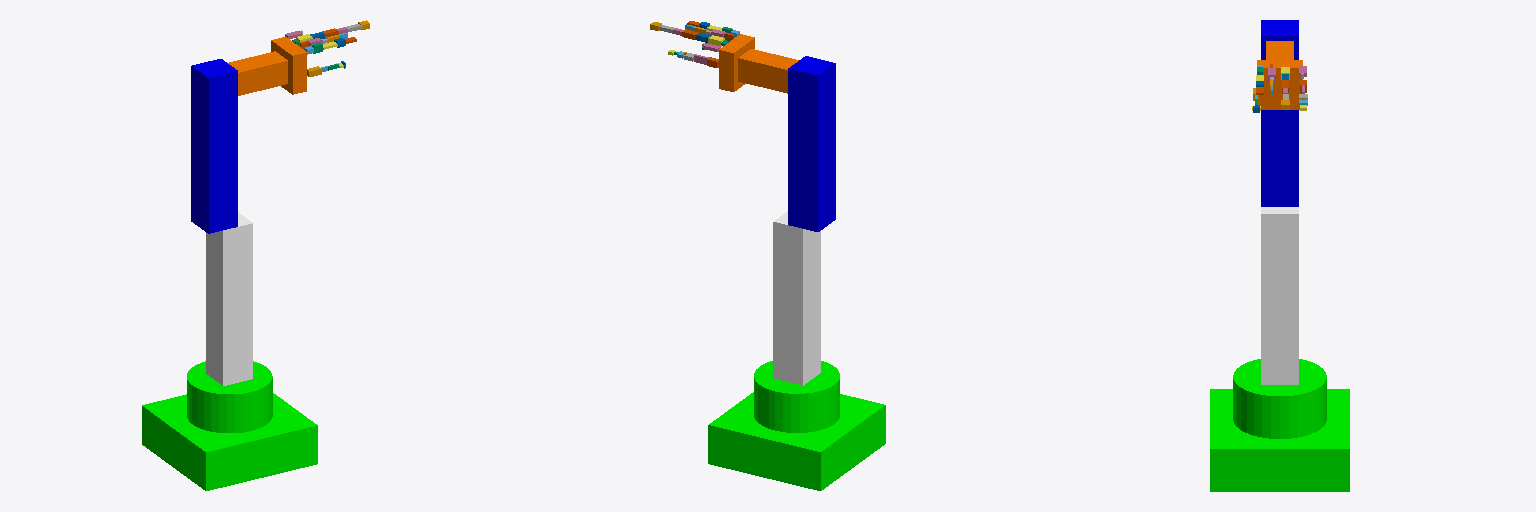
--- Render facts (derived) ---
The picture shows the robot from 3 angles, left to right: view 1: azimuth 30°, elevation 25°; view 2: azimuth 150°, elevation 25°; view 3: azimuth 270°, elevation 25°; orthographic projection.
Robot: robot — 36 links, 35 joints (32 revolute, 1 continuous, 2 fixed); root link base_link; default pose: every joint at zero.
Visible links, largest first — view 1: base_link, arm_link, support_link, wrist_link, palm_link; view 2: base_link, arm_link, support_link, wrist_link, palm_link; view 3: base_link, support_link, arm_link, palm_link, wrist_link.
Boxes of the visible links, left/top/right/bottom form: base_link: left=142, top=361, right=317, bottom=490; arm_link: left=191, top=59, right=237, bottom=233; support_link: left=206, top=212, right=252, bottom=385; wrist_link: left=228, top=51, right=287, bottom=95; palm_link: left=271, top=37, right=306, bottom=94; base_link: left=708, top=361, right=885, bottom=490; arm_link: left=788, top=56, right=835, bottom=231; support_link: left=773, top=211, right=820, bottom=385; wrist_link: left=738, top=49, right=798, bottom=93; palm_link: left=719, top=34, right=754, bottom=91; base_link: left=1210, top=359, right=1349, bottom=491; support_link: left=1261, top=207, right=1298, bottom=384; arm_link: left=1261, top=20, right=1298, bottom=206; palm_link: left=1257, top=60, right=1302, bottom=109; wrist_link: left=1266, top=41, right=1293, bottom=59.
Size in the robot's own frame: 1.32 by 0.75 by 2.55 metres.
Geometry: primitives only (box / cylinder / sphere), no mesh files.

robot.urdf — robot:
<?xml version='1.0' encoding='utf-8'?>
<robot name="robot">
  <link name="base_link">
    <visual>
      <origin xyz="0 0 0.125" rpy="0 0 0" />
      <geometry>
        <box size="0.75 0.75 0.25" />
      </geometry>
      <material name="green" />
    </visual>
    <visual>
      <origin xyz="0 0 0.375" rpy="0 0 0" />
      <geometry>
        <cylinder length="0.25" radius="0.25" />
      </geometry>
      <material name="green">
        <color rgba="0 1 0 1" />
      </material>
    </visual>
    <collision>
      <geometry>
        <box size="0.75 0.75 0.5" />
      </geometry>
    </collision>
    <inertial>
      <mass value="0.5" />
      <inertia ixx="0.034" ixy="0.0" ixz="0.0" iyy="0.034" iyz="0.0" izz="0.034" />
    </inertial>
  </link>
  <link name="support_link">
    <visual>
      <origin xyz="0 0 0.5" rpy="0 0 0" />
      <geometry>
        <box size="0.2 0.2 1" />
      </geometry>
      <material name="white">
        <color rgba="1 1 1 1" />
      </material>
    </visual>
    <collision>
      <geometry>
        <box size="0.2 0.2 1" />
      </geometry>
    </collision>
    <inertial>
      <mass value="0.1" />
      <inertia ixx="0.01" ixy="0.0" ixz="0.0" iyy="0.01" iyz="0.0" izz="0.01" />
    </inertial>
  </link>
  <joint name="support_joint" type="continuous">
    <origin xyz="0 0 0.5" rpy="0 0 0" />
    <parent link="base_link" />
    <child link="support_link" />
    <axis xyz="0 0 1" />
  </joint>
  <link name="arm_link">
    <visual>
      <origin xyz="0 0 0.5" rpy="0 0 0" />
      <geometry>
        <box size="0.2 0.2 1" />
      </geometry>
      <material name="blue">
        <color rgba="0 0 1 1" />
      </material>
    </visual>
    <collision>
      <geometry>
        <box size="0.2 0.2 1" />
      </geometry>
    </collision>
    <inertial>
      <mass value="0.1" />
      <inertia ixx="0.01" ixy="0.0" ixz="0.0" iyy="0.01" iyz="0.0" izz="0.01" />
    </inertial>
  </link>
  <joint name="arm_joint" type="revolute">
    <origin xyz="-0.1 0 1" rpy="0 0 0" />
    <parent link="support_link" />
    <child link="arm_link" />
    <axis xyz="0 1 0" />
    <limit lower="-3.14" upper="3.14" effort="1.0" velocity="1.0" />
  </joint>
  <link name="wrist_link">
    <visual>
      <origin xyz="0 0 0.25" rpy="0 0 0" />
      <geometry>
        <box size="0.15 0.15 0.5" />
      </geometry>
      <material name="orange">
        <color rgba="1 0.5 0 1" />
      </material>
    </visual>
    <collision>
      <geometry>
        <box size="0.15 0.15 0.5" />
      </geometry>
    </collision>
    <inertial>
      <mass value="0.1" />
      <inertia ixx="0.01" ixy="0.0" ixz="0.0" iyy="0.01" iyz="0.0" izz="0.01" />
    </inertial>
  </link>
  <joint name="wrist_joint" type="fixed">
    <origin xyz="0 0 0.9" rpy="0 1.571 0" />
    <parent link="arm_link" />
    <child link="wrist_link" />
  </joint>
  <link name="palm_link">
    <visual>
      <origin xyz="0 0 0.05" rpy="0 0 0" />
      <geometry>
        <box size="0.25 0.25 0.1" />
      </geometry>
      <material name="orange" />
    </visual>
    <collision>
      <geometry>
        <box size="0.25 0.25 0.1" />
      </geometry>
    </collision>
    <inertial>
      <mass value="0.1" />
      <inertia ixx="0.01" ixy="0.0" ixz="0.0" iyy="0.01" iyz="0.0" izz="0.01" />
    </inertial>
  </link>
  <joint name="palm_joint" type="fixed">
    <origin xyz="0 0 0.45" rpy="0 0 0" />
    <parent link="wrist_link" />
    <child link="palm_link" />
  </joint>
  <link name="finger_link_0_0">
    <visual>
      <origin xyz="0 0 0.028" rpy="0 0 0" />
      <geometry>
        <box size="0.05 0.017 0.056" />
      </geometry>
    </visual>
    <collision>
      <geometry>
        <box size="0.05 0.017 0.056" />
      </geometry>
    </collision>
    <inertial>
      <mass value="0.014" />
      <inertia ixx="0.0" iyy="0.0" izz="0.0" ixy="0" ixz="0" iyz="0" />
    </inertial>
  </link>
  <joint name="finger_joint_palm_link_to_finger_link_0_0" type="revolute">
    <origin xyz="-0.125 -0.044 0.1" rpy="0 0 0" />
    <parent link="palm_link" />
    <child link="finger_link_0_0" />
    <axis xyz="0.0 -1.0 0.0" />
    <limit lower="-3.142" upper="3.142" effort="10" velocity="10" />
  </joint>
  <link name="finger_link_0_1">
    <visual>
      <origin xyz="0 0 0.04" rpy="0 0 0" />
      <geometry>
        <box size="0.046 0.041 0.08" />
      </geometry>
    </visual>
    <collision>
      <geometry>
        <box size="0.046 0.041 0.08" />
      </geometry>
    </collision>
    <inertial>
      <mass value="0.045" />
      <inertia ixx="0.0" iyy="0.0" izz="0.0" ixy="0" ixz="0" iyz="0" />
    </inertial>
  </link>
  <joint name="finger_joint_finger_link_0_0_to_finger_link_0_1" type="revolute">
    <origin xyz="0.0 0.0 0.056" rpy="0 0 0" />
    <parent link="finger_link_0_0" />
    <child link="finger_link_0_1" />
    <axis xyz="0.0 1.0 0.0" />
    <limit lower="-3.142" upper="3.142" effort="10" velocity="10" />
  </joint>
  <link name="finger_link_0_2">
    <visual>
      <origin xyz="0 0 0.022" rpy="0 0 0" />
      <geometry>
        <box size="0.021 0.022 0.044" />
      </geometry>
    </visual>
    <collision>
      <geometry>
        <box size="0.021 0.022 0.044" />
      </geometry>
    </collision>
    <inertial>
      <mass value="0.006" />
      <inertia ixx="0.0" iyy="0.0" izz="0.0" ixy="0" ixz="0" iyz="0" />
    </inertial>
  </link>
  <joint name="finger_joint_finger_link_0_1_to_finger_link_0_2" type="revolute">
    <origin xyz="0.0 0.0 0.08" rpy="0 0 0" />
    <parent link="finger_link_0_1" />
    <child link="finger_link_0_2" />
    <axis xyz="1.0 1.0 0.0" />
    <limit lower="-3.142" upper="3.142" effort="10" velocity="10" />
  </joint>
  <link name="finger_link_0_3">
    <visual>
      <origin xyz="0 0 0.041" rpy="0 0 0" />
      <geometry>
        <box size="0.032 0.018 0.082" />
      </geometry>
    </visual>
    <collision>
      <geometry>
        <box size="0.032 0.018 0.082" />
      </geometry>
    </collision>
    <inertial>
      <mass value="0.014" />
      <inertia ixx="0.0" iyy="0.0" izz="0.0" ixy="0" ixz="0" iyz="0" />
    </inertial>
  </link>
  <joint name="finger_joint_finger_link_0_2_to_finger_link_0_3" type="revolute">
    <origin xyz="0.0 0.0 0.044" rpy="0 0 0" />
    <parent link="finger_link_0_2" />
    <child link="finger_link_0_3" />
    <axis xyz="1.0 0.0 0.0" />
    <limit lower="-3.142" upper="3.142" effort="10" velocity="10" />
  </joint>
  <link name="finger_link_0_4">
    <visual>
      <origin xyz="0 0 0.0275" rpy="0 0 0" />
      <geometry>
        <box size="0.035 0.013 0.055" />
      </geometry>
    </visual>
    <collision>
      <geometry>
        <box size="0.035 0.013 0.055" />
      </geometry>
    </collision>
    <inertial>
      <mass value="0.008" />
      <inertia ixx="0.0" iyy="0.0" izz="0.0" ixy="0" ixz="0" iyz="0" />
    </inertial>
  </link>
  <joint name="finger_joint_finger_link_0_3_to_finger_link_0_4" type="revolute">
    <origin xyz="0.0 0.0 0.082" rpy="0 0 0" />
    <parent link="finger_link_0_3" />
    <child link="finger_link_0_4" />
    <axis xyz="0.0 1.0 0.0" />
    <limit lower="-3.142" upper="3.142" effort="10" velocity="10" />
  </joint>
  <link name="finger_link_1_0">
    <visual>
      <origin xyz="0 0 0.0135" rpy="0 0 0" />
      <geometry>
        <box size="0.015 0.045 0.027" />
      </geometry>
    </visual>
    <collision>
      <geometry>
        <box size="0.015 0.045 0.027" />
      </geometry>
    </collision>
    <inertial>
      <mass value="0.005" />
      <inertia ixx="0.0" iyy="0.0" izz="0.0" ixy="0" ixz="0" iyz="0" />
    </inertial>
  </link>
  <joint name="finger_joint_palm_link_to_finger_link_1_0" type="revolute">
    <origin xyz="-0.125 0.03 0.1" rpy="0 0 0" />
    <parent link="palm_link" />
    <child link="finger_link_1_0" />
    <axis xyz="0.0 -1.0 0.0" />
    <limit lower="-3.142" upper="3.142" effort="10" velocity="10" />
  </joint>
  <link name="finger_link_1_1">
    <visual>
      <origin xyz="0 0 0.0415" rpy="0 0 0" />
      <geometry>
        <box size="0.039 0.049 0.083" />
      </geometry>
    </visual>
    <collision>
      <geometry>
        <box size="0.039 0.049 0.083" />
      </geometry>
    </collision>
    <inertial>
      <mass value="0.048" />
      <inertia ixx="0.0" iyy="0.0" izz="0.0" ixy="0" ixz="0" iyz="0" />
    </inertial>
  </link>
  <joint name="finger_joint_finger_link_1_0_to_finger_link_1_1" type="revolute">
    <origin xyz="0.0 0.0 0.027" rpy="0 0 0" />
    <parent link="finger_link_1_0" />
    <child link="finger_link_1_1" />
    <axis xyz="1.0 1.0 0.0" />
    <limit lower="-3.142" upper="3.142" effort="10" velocity="10" />
  </joint>
  <link name="finger_link_1_2">
    <visual>
      <origin xyz="0 0 0.0425" rpy="0 0 0" />
      <geometry>
        <box size="0.034 0.035 0.085" />
      </geometry>
    </visual>
    <collision>
      <geometry>
        <box size="0.034 0.035 0.085" />
      </geometry>
    </collision>
    <inertial>
      <mass value="0.03" />
      <inertia ixx="0.0" iyy="0.0" izz="0.0" ixy="0" ixz="0" iyz="0" />
    </inertial>
  </link>
  <joint name="finger_joint_finger_link_1_1_to_finger_link_1_2" type="revolute">
    <origin xyz="0.0 0.0 0.083" rpy="0 0 0" />
    <parent link="finger_link_1_1" />
    <child link="finger_link_1_2" />
    <axis xyz="0.0 1.0 0.0" />
    <limit lower="-3.142" upper="3.142" effort="10" velocity="10" />
  </joint>
  <link name="finger_link_1_3">
    <visual>
      <origin xyz="0 0 0.046" rpy="0 0 0" />
      <geometry>
        <box size="0.034 0.04 0.092" />
      </geometry>
    </visual>
    <collision>
      <geometry>
        <box size="0.034 0.04 0.092" />
      </geometry>
    </collision>
    <inertial>
      <mass value="0.038" />
      <inertia ixx="0.0" iyy="0.0" izz="0.0" ixy="0" ixz="0" iyz="0" />
    </inertial>
  </link>
  <joint name="finger_joint_finger_link_1_2_to_finger_link_1_3" type="revolute">
    <origin xyz="0.0 0.0 0.085" rpy="0 0 0" />
    <parent link="finger_link_1_2" />
    <child link="finger_link_1_3" />
    <axis xyz="0.0 1.0 0.0" />
    <limit lower="-3.142" upper="3.142" effort="10" velocity="10" />
  </joint>
  <link name="finger_link_1_4">
    <visual>
      <origin xyz="0 0 0.0315" rpy="0 0 0" />
      <geometry>
        <box size="0.025 0.03 0.063" />
      </geometry>
    </visual>
    <collision>
      <geometry>
        <box size="0.025 0.03 0.063" />
      </geometry>
    </collision>
    <inertial>
      <mass value="0.014" />
      <inertia ixx="0.0" iyy="0.0" izz="0.0" ixy="0" ixz="0" iyz="0" />
    </inertial>
  </link>
  <joint name="finger_joint_finger_link_1_3_to_finger_link_1_4" type="revolute">
    <origin xyz="0.0 0.0 0.092" rpy="0 0 0" />
    <parent link="finger_link_1_3" />
    <child link="finger_link_1_4" />
    <axis xyz="0.0 1.0 0.0" />
    <limit lower="-3.142" upper="3.142" effort="10" velocity="10" />
  </joint>
  <link name="finger_link_1_5">
    <visual>
      <origin xyz="0 0 0.0475" rpy="0 0 0" />
      <geometry>
        <box size="0.023 0.032 0.095" />
      </geometry>
    </visual>
    <collision>
      <geometry>
        <box size="0.023 0.032 0.095" />
      </geometry>
    </collision>
    <inertial>
      <mass value="0.021" />
      <inertia ixx="0.0" iyy="0.0" izz="0.0" ixy="0" ixz="0" iyz="0" />
    </inertial>
  </link>
  <joint name="finger_joint_finger_link_1_4_to_finger_link_1_5" type="revolute">
    <origin xyz="0.0 0.0 0.063" rpy="0 0 0" />
    <parent link="finger_link_1_4" />
    <child link="finger_link_1_5" />
    <axis xyz="0.0 1.0 0.0" />
    <limit lower="-3.142" upper="3.142" effort="10" velocity="10" />
  </joint>
  <link name="finger_link_1_6">
    <visual>
      <origin xyz="0 0 0.027" rpy="0 0 0" />
      <geometry>
        <box size="0.033 0.045 0.054" />
      </geometry>
    </visual>
    <collision>
      <geometry>
        <box size="0.033 0.045 0.054" />
      </geometry>
    </collision>
    <inertial>
      <mass value="0.024" />
      <inertia ixx="0.0" iyy="0.0" izz="0.0" ixy="0" ixz="0" iyz="0" />
    </inertial>
  </link>
  <joint name="finger_joint_finger_link_1_5_to_finger_link_1_6" type="revolute">
    <origin xyz="0.0 0.0 0.095" rpy="0 0 0" />
    <parent link="finger_link_1_5" />
    <child link="finger_link_1_6" />
    <axis xyz="1.0 0.0 0.0" />
    <limit lower="-3.142" upper="3.142" effort="10" velocity="10" />
  </joint>
  <link name="finger_link_2_0">
    <visual>
      <origin xyz="0 0 0.023" rpy="0 0 0" />
      <geometry>
        <box size="0.03 0.036 0.046" />
      </geometry>
    </visual>
    <collision>
      <geometry>
        <box size="0.03 0.036 0.046" />
      </geometry>
    </collision>
    <inertial>
      <mass value="0.015" />
      <inertia ixx="0.0" iyy="0.0" izz="0.0" ixy="0" ixz="0" iyz="0" />
    </inertial>
  </link>
  <joint name="finger_joint_palm_link_to_finger_link_2_0" type="revolute">
    <origin xyz="-0.125 -0.107 0.1" rpy="0 0 0" />
    <parent link="palm_link" />
    <child link="finger_link_2_0" />
    <axis xyz="0.0 -1.0 0.0" />
    <limit lower="-3.142" upper="3.142" effort="10" velocity="10" />
  </joint>
  <link name="finger_link_2_1">
    <visual>
      <origin xyz="0 0 0.03" rpy="0 0 0" />
      <geometry>
        <box size="0.047 0.028 0.06" />
      </geometry>
    </visual>
    <collision>
      <geometry>
        <box size="0.047 0.028 0.06" />
      </geometry>
    </collision>
    <inertial>
      <mass value="0.024" />
      <inertia ixx="0.0" iyy="0.0" izz="0.0" ixy="0" ixz="0" iyz="0" />
    </inertial>
  </link>
  <joint name="finger_joint_finger_link_2_0_to_finger_link_2_1" type="revolute">
    <origin xyz="0.0 0.0 0.046" rpy="0 0 0" />
    <parent link="finger_link_2_0" />
    <child link="finger_link_2_1" />
    <axis xyz="0.0 1.0 0.0" />
    <limit lower="-3.142" upper="3.142" effort="10" velocity="10" />
  </joint>
  <link name="finger_link_2_2">
    <visual>
      <origin xyz="0 0 0.0475" rpy="0 0 0" />
      <geometry>
        <box size="0.015 0.044 0.095" />
      </geometry>
    </visual>
    <collision>
      <geometry>
        <box size="0.015 0.044 0.095" />
      </geometry>
    </collision>
    <inertial>
      <mass value="0.019" />
      <inertia ixx="0.0" iyy="0.0" izz="0.0" ixy="0" ixz="0" iyz="0" />
    </inertial>
  </link>
  <joint name="finger_joint_finger_link_2_1_to_finger_link_2_2" type="revolute">
    <origin xyz="0.0 0.0 0.06" rpy="0 0 0" />
    <parent link="finger_link_2_1" />
    <child link="finger_link_2_2" />
    <axis xyz="1.0 0.0 0.0" />
    <limit lower="-3.142" upper="3.142" effort="10" velocity="10" />
  </joint>
  <link name="finger_link_2_3">
    <visual>
      <origin xyz="0 0 0.027" rpy="0 0 0" />
      <geometry>
        <box size="0.038 0.039 0.054" />
      </geometry>
    </visual>
    <collision>
      <geometry>
        <box size="0.038 0.039 0.054" />
      </geometry>
    </collision>
    <inertial>
      <mass value="0.024" />
      <inertia ixx="0.0" iyy="0.0" izz="0.0" ixy="0" ixz="0" iyz="0" />
    </inertial>
  </link>
  <joint name="finger_joint_finger_link_2_2_to_finger_link_2_3" type="revolute">
    <origin xyz="0.0 0.0 0.095" rpy="0 0 0" />
    <parent link="finger_link_2_2" />
    <child link="finger_link_2_3" />
    <axis xyz="1.0 1.0 0.0" />
    <limit lower="-3.142" upper="3.142" effort="10" velocity="10" />
  </joint>
  <link name="finger_link_2_4">
    <visual>
      <origin xyz="0 0 0.0385" rpy="0 0 0" />
      <geometry>
        <box size="0.015 0.039 0.077" />
      </geometry>
    </visual>
    <collision>
      <geometry>
        <box size="0.015 0.039 0.077" />
      </geometry>
    </collision>
    <inertial>
      <mass value="0.014" />
      <inertia ixx="0.0" iyy="0.0" izz="0.0" ixy="0" ixz="0" iyz="0" />
    </inertial>
  </link>
  <joint name="finger_joint_finger_link_2_3_to_finger_link_2_4" type="revolute">
    <origin xyz="0.0 0.0 0.054" rpy="0 0 0" />
    <parent link="finger_link_2_3" />
    <child link="finger_link_2_4" />
    <axis xyz="1.0 1.0 0.0" />
    <limit lower="-3.142" upper="3.142" effort="10" velocity="10" />
  </joint>
  <link name="finger_link_3_0">
    <visual>
      <origin xyz="0 0 0.046" rpy="0 0 0" />
      <geometry>
        <box size="0.02 0.041 0.092" />
      </geometry>
    </visual>
    <collision>
      <geometry>
        <box size="0.02 0.041 0.092" />
      </geometry>
    </collision>
    <inertial>
      <mass value="0.023" />
      <inertia ixx="0.0" iyy="0.0" izz="0.0" ixy="0" ixz="0" iyz="0" />
    </inertial>
  </link>
  <joint name="finger_joint_palm_link_to_finger_link_3_0" type="revolute">
    <origin xyz="-0.125 0.121 0.1" rpy="0 0 0" />
    <parent link="palm_link" />
    <child link="finger_link_3_0" />
    <axis xyz="0.0 -1.0 0.0" />
    <limit lower="-3.142" upper="3.142" effort="10" velocity="10" />
  </joint>
  <link name="finger_link_3_1">
    <visual>
      <origin xyz="0 0 0.008" rpy="0 0 0" />
      <geometry>
        <box size="0.025 0.017 0.016" />
      </geometry>
    </visual>
    <collision>
      <geometry>
        <box size="0.025 0.017 0.016" />
      </geometry>
    </collision>
    <inertial>
      <mass value="0.002" />
      <inertia ixx="0.0" iyy="0.0" izz="0.0" ixy="0" ixz="0" iyz="0" />
    </inertial>
  </link>
  <joint name="finger_joint_finger_link_3_0_to_finger_link_3_1" type="revolute">
    <origin xyz="0.0 0.0 0.092" rpy="0 0 0" />
    <parent link="finger_link_3_0" />
    <child link="finger_link_3_1" />
    <axis xyz="0.0 1.0 0.0" />
    <limit lower="-3.142" upper="3.142" effort="10" velocity="10" />
  </joint>
  <link name="finger_link_4_0">
    <visual>
      <origin xyz="0 0 0.0425" rpy="0 0 0" />
      <geometry>
        <box size="0.038 0.039 0.085" />
      </geometry>
    </visual>
    <collision>
      <geometry>
        <box size="0.038 0.039 0.085" />
      </geometry>
    </collision>
    <inertial>
      <mass value="0.038" />
      <inertia ixx="0.0" iyy="0.0" izz="0.0" ixy="0" ixz="0" iyz="0" />
    </inertial>
  </link>
  <joint name="finger_joint_palm_link_to_finger_link_4_0" type="revolute">
    <origin xyz="0.01 -0.125 0.1" rpy="0 0 0" />
    <parent link="palm_link" />
    <child link="finger_link_4_0" />
    <axis xyz="1.0 0.0 0.0" />
    <limit lower="-3.142" upper="3.142" effort="10" velocity="10" />
  </joint>
  <link name="finger_link_4_1">
    <visual>
      <origin xyz="0 0 0.026" rpy="0 0 0" />
      <geometry>
        <box size="0.027 0.011 0.052" />
      </geometry>
    </visual>
    <collision>
      <geometry>
        <box size="0.027 0.011 0.052" />
      </geometry>
    </collision>
    <inertial>
      <mass value="0.005" />
      <inertia ixx="0.0" iyy="0.0" izz="0.0" ixy="0" ixz="0" iyz="0" />
    </inertial>
  </link>
  <joint name="finger_joint_finger_link_4_0_to_finger_link_4_1" type="revolute">
    <origin xyz="0.0 0.0 0.085" rpy="0 0 0" />
    <parent link="finger_link_4_0" />
    <child link="finger_link_4_1" />
    <axis xyz="0.0 1.0 0.0" />
    <limit lower="-3.142" upper="3.142" effort="10" velocity="10" />
  </joint>
  <link name="finger_link_4_2">
    <visual>
      <origin xyz="0 0 0.0345" rpy="0 0 0" />
      <geometry>
        <box size="0.023 0.015 0.069" />
      </geometry>
    </visual>
    <collision>
      <geometry>
        <box size="0.023 0.015 0.069" />
      </geometry>
    </collision>
    <inertial>
      <mass value="0.007" />
      <inertia ixx="0.0" iyy="0.0" izz="0.0" ixy="0" ixz="0" iyz="0" />
    </inertial>
  </link>
  <joint name="finger_joint_finger_link_4_1_to_finger_link_4_2" type="revolute">
    <origin xyz="0.0 0.0 0.052" rpy="0 0 0" />
    <parent link="finger_link_4_1" />
    <child link="finger_link_4_2" />
    <axis xyz="0.0 1.0 0.0" />
    <limit lower="-3.142" upper="3.142" effort="10" velocity="10" />
  </joint>
  <link name="finger_link_4_3">
    <visual>
      <origin xyz="0 0 0.0135" rpy="0 0 0" />
      <geometry>
        <box size="0.015 0.044 0.027" />
      </geometry>
    </visual>
    <collision>
      <geometry>
        <box size="0.015 0.044 0.027" />
      </geometry>
    </collision>
    <inertial>
      <mass value="0.005" />
      <inertia ixx="0.0" iyy="0.0" izz="0.0" ixy="0" ixz="0" iyz="0" />
    </inertial>
  </link>
  <joint name="finger_joint_finger_link_4_2_to_finger_link_4_3" type="revolute">
    <origin xyz="0.0 0.0 0.069" rpy="0 0 0" />
    <parent link="finger_link_4_2" />
    <child link="finger_link_4_3" />
    <axis xyz="1.0 0.0 0.0" />
    <limit lower="-3.142" upper="3.142" effort="10" velocity="10" />
  </joint>
  <link name="finger_link_4_4">
    <visual>
      <origin xyz="0 0 0.007" rpy="0 0 0" />
      <geometry>
        <box size="0.033 0.038 0.014" />
      </geometry>
    </visual>
    <collision>
      <geometry>
        <box size="0.033 0.038 0.014" />
      </geometry>
    </collision>
    <inertial>
      <mass value="0.005" />
      <inertia ixx="0.0" iyy="0.0" izz="0.0" ixy="0" ixz="0" iyz="0" />
    </inertial>
  </link>
  <joint name="finger_joint_finger_link_4_3_to_finger_link_4_4" type="revolute">
    <origin xyz="0.0 0.0 0.027" rpy="0 0 0" />
    <parent link="finger_link_4_3" />
    <child link="finger_link_4_4" />
    <axis xyz="0.0 1.0 0.0" />
    <limit lower="-3.142" upper="3.142" effort="10" velocity="10" />
  </joint>
  <link name="finger_link_5_0">
    <visual>
      <origin xyz="0 0 0.035" rpy="0 0 0" />
      <geometry>
        <box size="0.043 0.035 0.07" />
      </geometry>
    </visual>
    <collision>
      <geometry>
        <box size="0.043 0.035 0.07" />
      </geometry>
    </collision>
    <inertial>
      <mass value="0.032" />
      <inertia ixx="0.0" iyy="0.0" izz="0.0" ixy="0" ixz="0" iyz="0" />
    </inertial>
  </link>
  <joint name="finger_joint_palm_link_to_finger_link_5_0" type="revolute">
    <origin xyz="-0.034 0.125 0.1" rpy="0 0 0" />
    <parent link="palm_link" />
    <child link="finger_link_5_0" />
    <axis xyz="-1.0 0.0 0.0" />
    <limit lower="-3.142" upper="3.142" effort="10" velocity="10" />
  </joint>
  <link name="finger_link_5_1">
    <visual>
      <origin xyz="0 0 0.0455" rpy="0 0 0" />
      <geometry>
        <box size="0.043 0.016 0.091" />
      </geometry>
    </visual>
    <collision>
      <geometry>
        <box size="0.043 0.016 0.091" />
      </geometry>
    </collision>
    <inertial>
      <mass value="0.019" />
      <inertia ixx="0.0" iyy="0.0" izz="0.0" ixy="0" ixz="0" iyz="0" />
    </inertial>
  </link>
  <joint name="finger_joint_finger_link_5_0_to_finger_link_5_1" type="revolute">
    <origin xyz="0.0 0.0 0.07" rpy="0 0 0" />
    <parent link="finger_link_5_0" />
    <child link="finger_link_5_1" />
    <axis xyz="0.0 1.0 0.0" />
    <limit lower="-3.142" upper="3.142" effort="10" velocity="10" />
  </joint>
  <link name="finger_link_5_2">
    <visual>
      <origin xyz="0 0 0.0285" rpy="0 0 0" />
      <geometry>
        <box size="0.025 0.048 0.057" />
      </geometry>
    </visual>
    <collision>
      <geometry>
        <box size="0.025 0.048 0.057" />
      </geometry>
    </collision>
    <inertial>
      <mass value="0.021" />
      <inertia ixx="0.0" iyy="0.0" izz="0.0" ixy="0" ixz="0" iyz="0" />
    </inertial>
  </link>
  <joint name="finger_joint_finger_link_5_1_to_finger_link_5_2" type="revolute">
    <origin xyz="0.0 0.0 0.091" rpy="0 0 0" />
    <parent link="finger_link_5_1" />
    <child link="finger_link_5_2" />
    <axis xyz="0.0 1.0 0.0" />
    <limit lower="-3.142" upper="3.142" effort="10" velocity="10" />
  </joint>
  <link name="finger_link_5_3">
    <visual>
      <origin xyz="0 0 0.0055" rpy="0 0 0" />
      <geometry>
        <box size="0.042 0.013 0.011" />
      </geometry>
    </visual>
    <collision>
      <geometry>
        <box size="0.042 0.013 0.011" />
      </geometry>
    </collision>
    <inertial>
      <mass value="0.002" />
      <inertia ixx="0.0" iyy="0.0" izz="0.0" ixy="0" ixz="0" iyz="0" />
    </inertial>
  </link>
  <joint name="finger_joint_finger_link_5_2_to_finger_link_5_3" type="revolute">
    <origin xyz="0.0 0.0 0.057" rpy="0 0 0" />
    <parent link="finger_link_5_2" />
    <child link="finger_link_5_3" />
    <axis xyz="1.0 0.0 0.0" />
    <limit lower="-3.142" upper="3.142" effort="10" velocity="10" />
  </joint>
  <link name="finger_link_5_4">
    <visual>
      <origin xyz="0 0 0.02" rpy="0 0 0" />
      <geometry>
        <box size="0.021 0.045 0.04" />
      </geometry>
    </visual>
    <collision>
      <geometry>
        <box size="0.021 0.045 0.04" />
      </geometry>
    </collision>
    <inertial>
      <mass value="0.011" />
      <inertia ixx="0.0" iyy="0.0" izz="0.0" ixy="0" ixz="0" iyz="0" />
    </inertial>
  </link>
  <joint name="finger_joint_finger_link_5_3_to_finger_link_5_4" type="revolute">
    <origin xyz="0.0 0.0 0.011" rpy="0 0 0" />
    <parent link="finger_link_5_3" />
    <child link="finger_link_5_4" />
    <axis xyz="0.0 1.0 0.0" />
    <limit lower="-3.142" upper="3.142" effort="10" velocity="10" />
  </joint>
  <link name="finger_link_5_5">
    <visual>
      <origin xyz="0 0 0.0135" rpy="0 0 0" />
      <geometry>
        <box size="0.015 0.014 0.027" />
      </geometry>
    </visual>
    <collision>
      <geometry>
        <box size="0.015 0.014 0.027" />
      </geometry>
    </collision>
    <inertial>
      <mass value="0.002" />
      <inertia ixx="0.0" iyy="0.0" izz="0.0" ixy="0" ixz="0" iyz="0" />
    </inertial>
  </link>
  <joint name="finger_joint_finger_link_5_4_to_finger_link_5_5" type="revolute">
    <origin xyz="0.0 0.0 0.04" rpy="0 0 0" />
    <parent link="finger_link_5_4" />
    <child link="finger_link_5_5" />
    <axis xyz="1.0 0.0 0.0" />
    <limit lower="-3.142" upper="3.142" effort="10" velocity="10" />
  </joint>
  <link name="finger_link_5_6">
    <visual>
      <origin xyz="0 0 0.017" rpy="0 0 0" />
      <geometry>
        <box size="0.019 0.033 0.034" />
      </geometry>
    </visual>
    <collision>
      <geometry>
        <box size="0.019 0.033 0.034" />
      </geometry>
    </collision>
    <inertial>
      <mass value="0.006" />
      <inertia ixx="0.0" iyy="0.0" izz="0.0" ixy="0" ixz="0" iyz="0" />
    </inertial>
  </link>
  <joint name="finger_joint_finger_link_5_5_to_finger_link_5_6" type="revolute">
    <origin xyz="0.0 0.0 0.027" rpy="0 0 0" />
    <parent link="finger_link_5_5" />
    <child link="finger_link_5_6" />
    <axis xyz="0.0 1.0 0.0" />
    <limit lower="-3.142" upper="3.142" effort="10" velocity="10" />
  </joint>
</robot>
